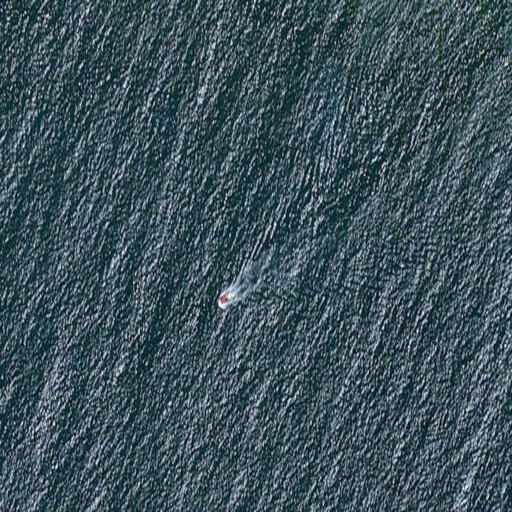ship: (217, 290, 233, 309)
